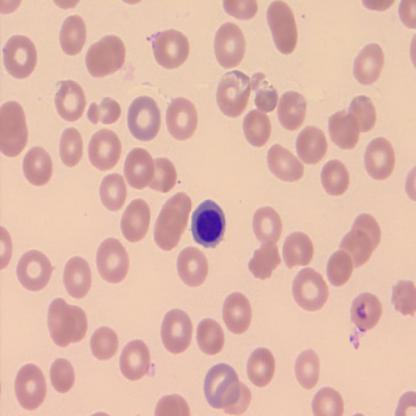NRC: (189, 196, 227, 250)
